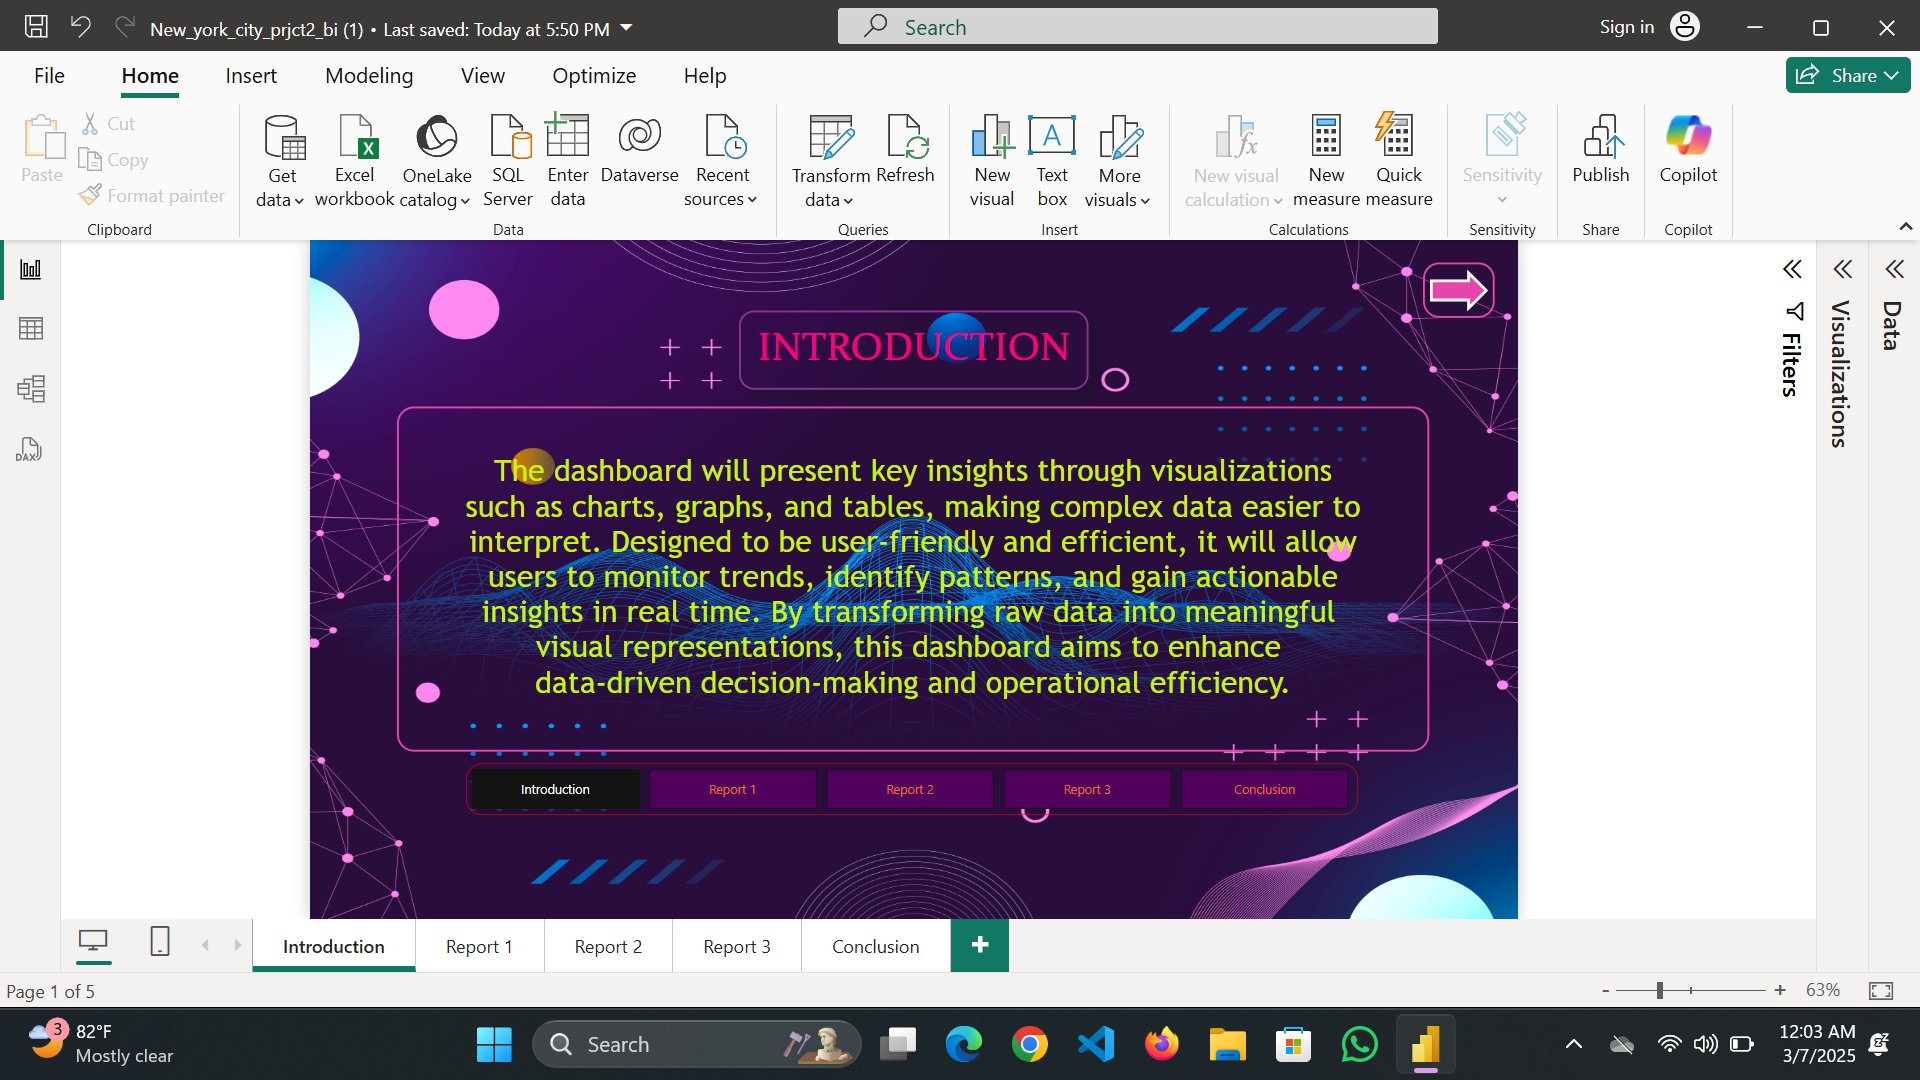

The dashboard page shown, as its layout file describes it:
{"tool":"powerbi","page":{"name":"Introduction","canvas":[1280,720],"ordinal":0},"visuals":[{"type":"textbox","box":[92.3,176.6,1094.3,365.8],"z":0},{"type":"textbox","box":[454.9,74.8,370.6,84.3],"z":1000},{"type":"pageNavigator","box":[166.1,555.7,946.1,54.8],"z":2000},{"type":"shape","box":[1179.9,24.2,75.9,58.7],"z":3000}]}

Visuals, with their boxes on the page's 1280x720 design canvas (x1, y1, x2, y2). These are canvas units, not pixel positions in the 1920x1080 screenshot, which may show the page scaled, cropped or inside an application window:
textbox: l=92, t=177, r=1187, b=542
textbox: l=455, t=75, r=826, b=159
pageNavigator: l=166, t=556, r=1112, b=610
shape: l=1180, t=24, r=1256, b=83
